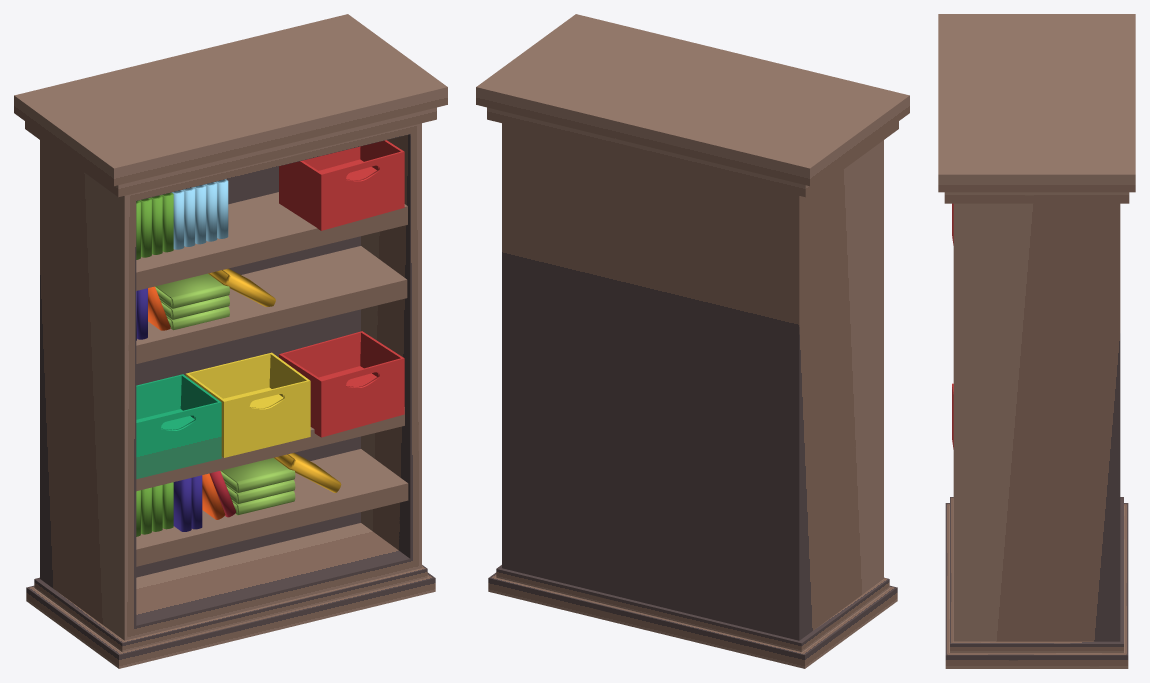
Rendered from librero.fbx.
3 views of the same model, side by side, from view 1: azimuth 30°, elevation 25°; view 2: azimuth 150°, elevation 25°; view 3: azimuth 270°, elevation 25° (orthographic).
Parts seen in each view (by area): view 1: librero; view 2: librero; view 3: librero.
Boxes of the visible parts, bbox=[...] form: librero: bbox=[14, 14, 447, 668]; librero: bbox=[476, 14, 909, 668]; librero: bbox=[938, 14, 1135, 668].
Bounding box in the file's own units: 331 × 478 × 171.
